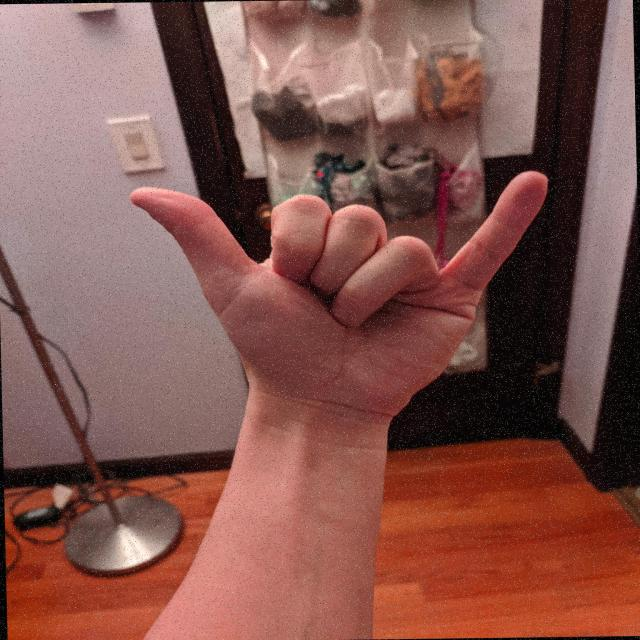Y: (122, 164, 560, 414)
